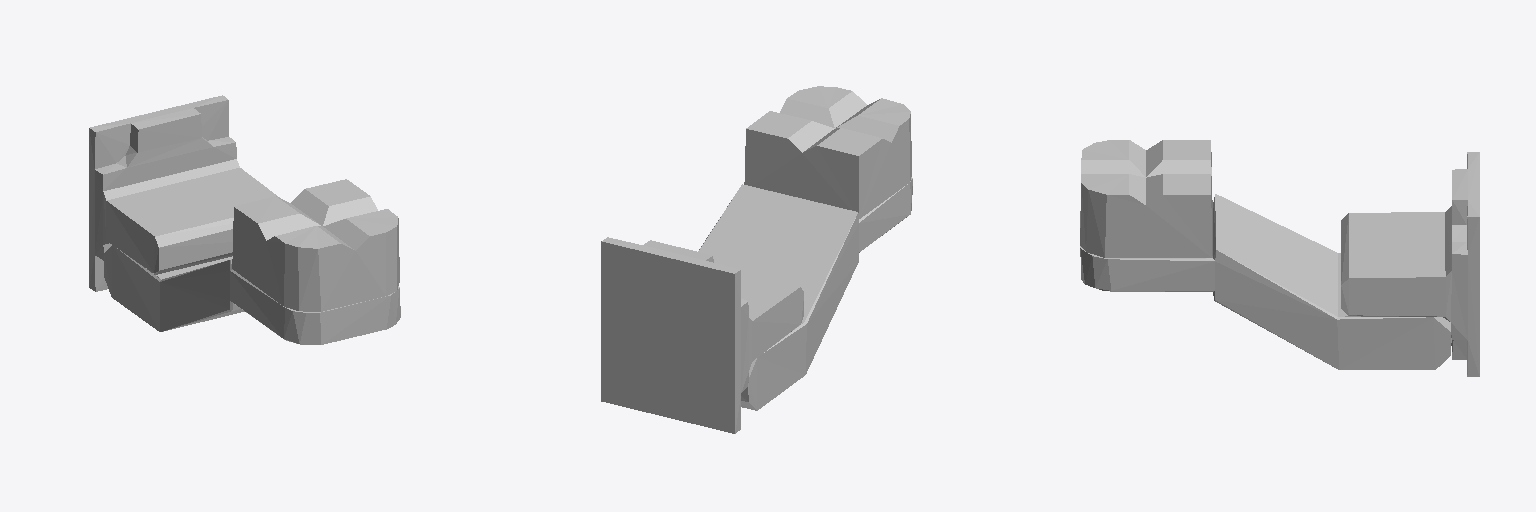
File: panda_left_rightfinger_geometry_panda_rightfinger.obj
3 renders of one model, left to right at view 1: azimuth 30°, elevation 25°; view 2: azimuth 150°, elevation 25°; view 3: azimuth 270°, elevation 25°, orthographic.
Size of the model in its own units: 0.021 by 0.0264 by 0.0538.